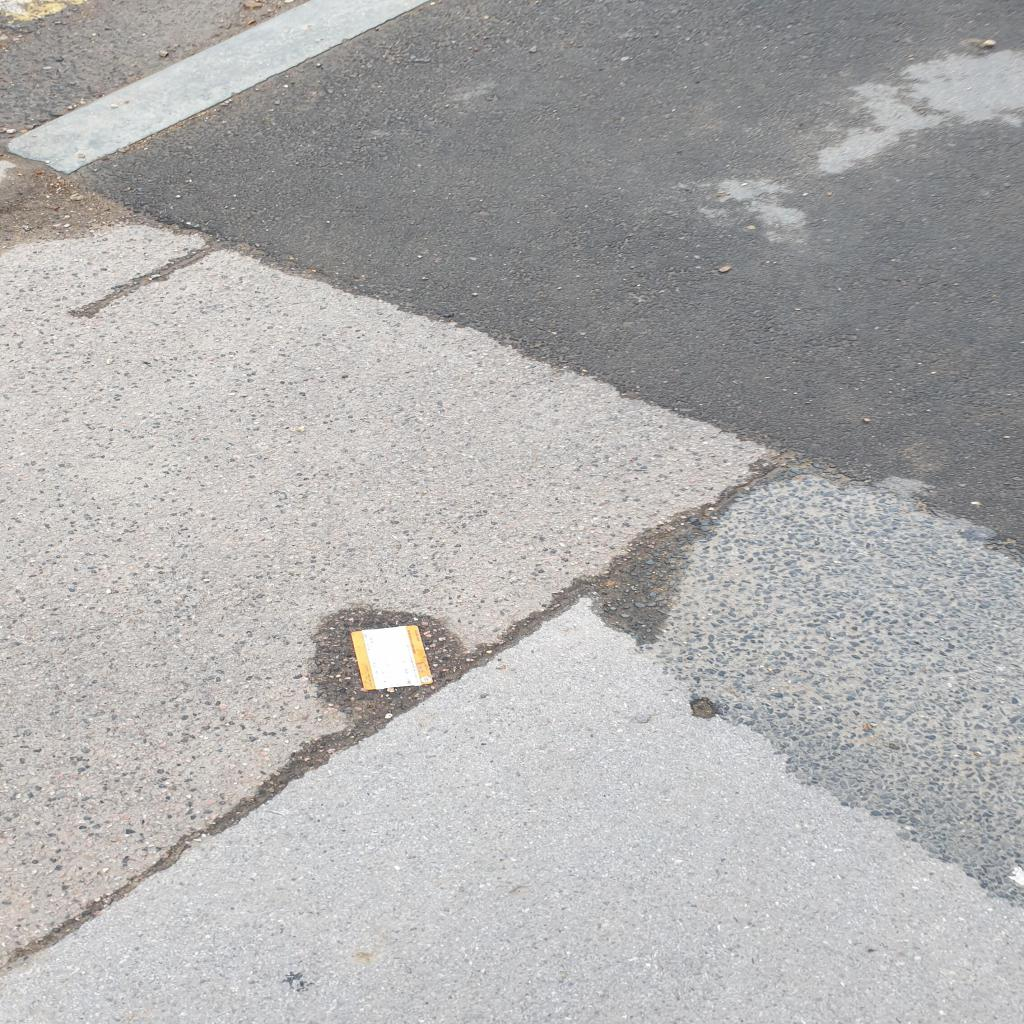Normal paper: (350, 626, 434, 690)
